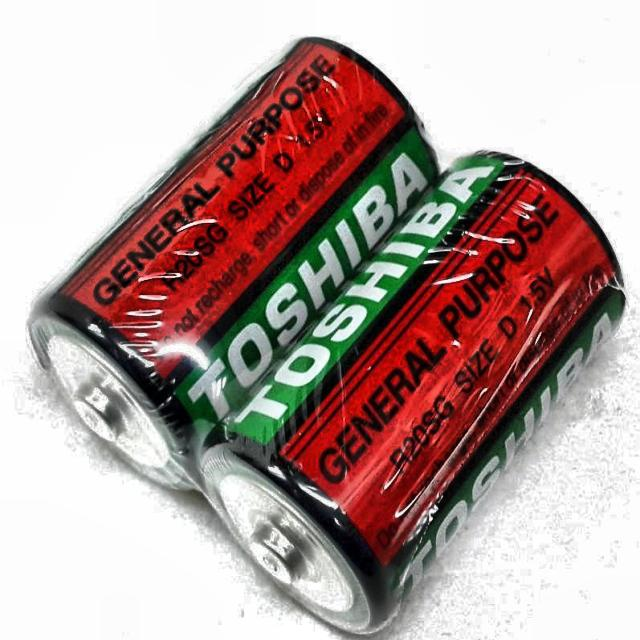Non-Valuable Waste - Batteries: (200, 154, 625, 633), (31, 38, 438, 489)
